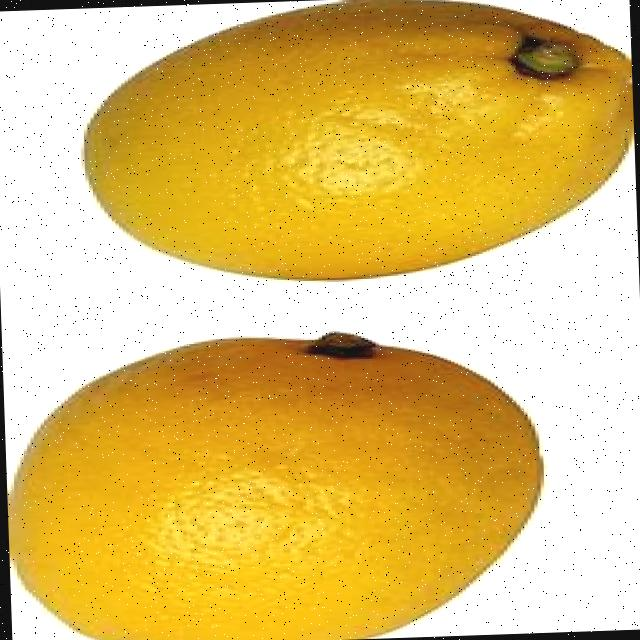Ripe: (0, 317, 551, 640), (67, 0, 639, 294)
